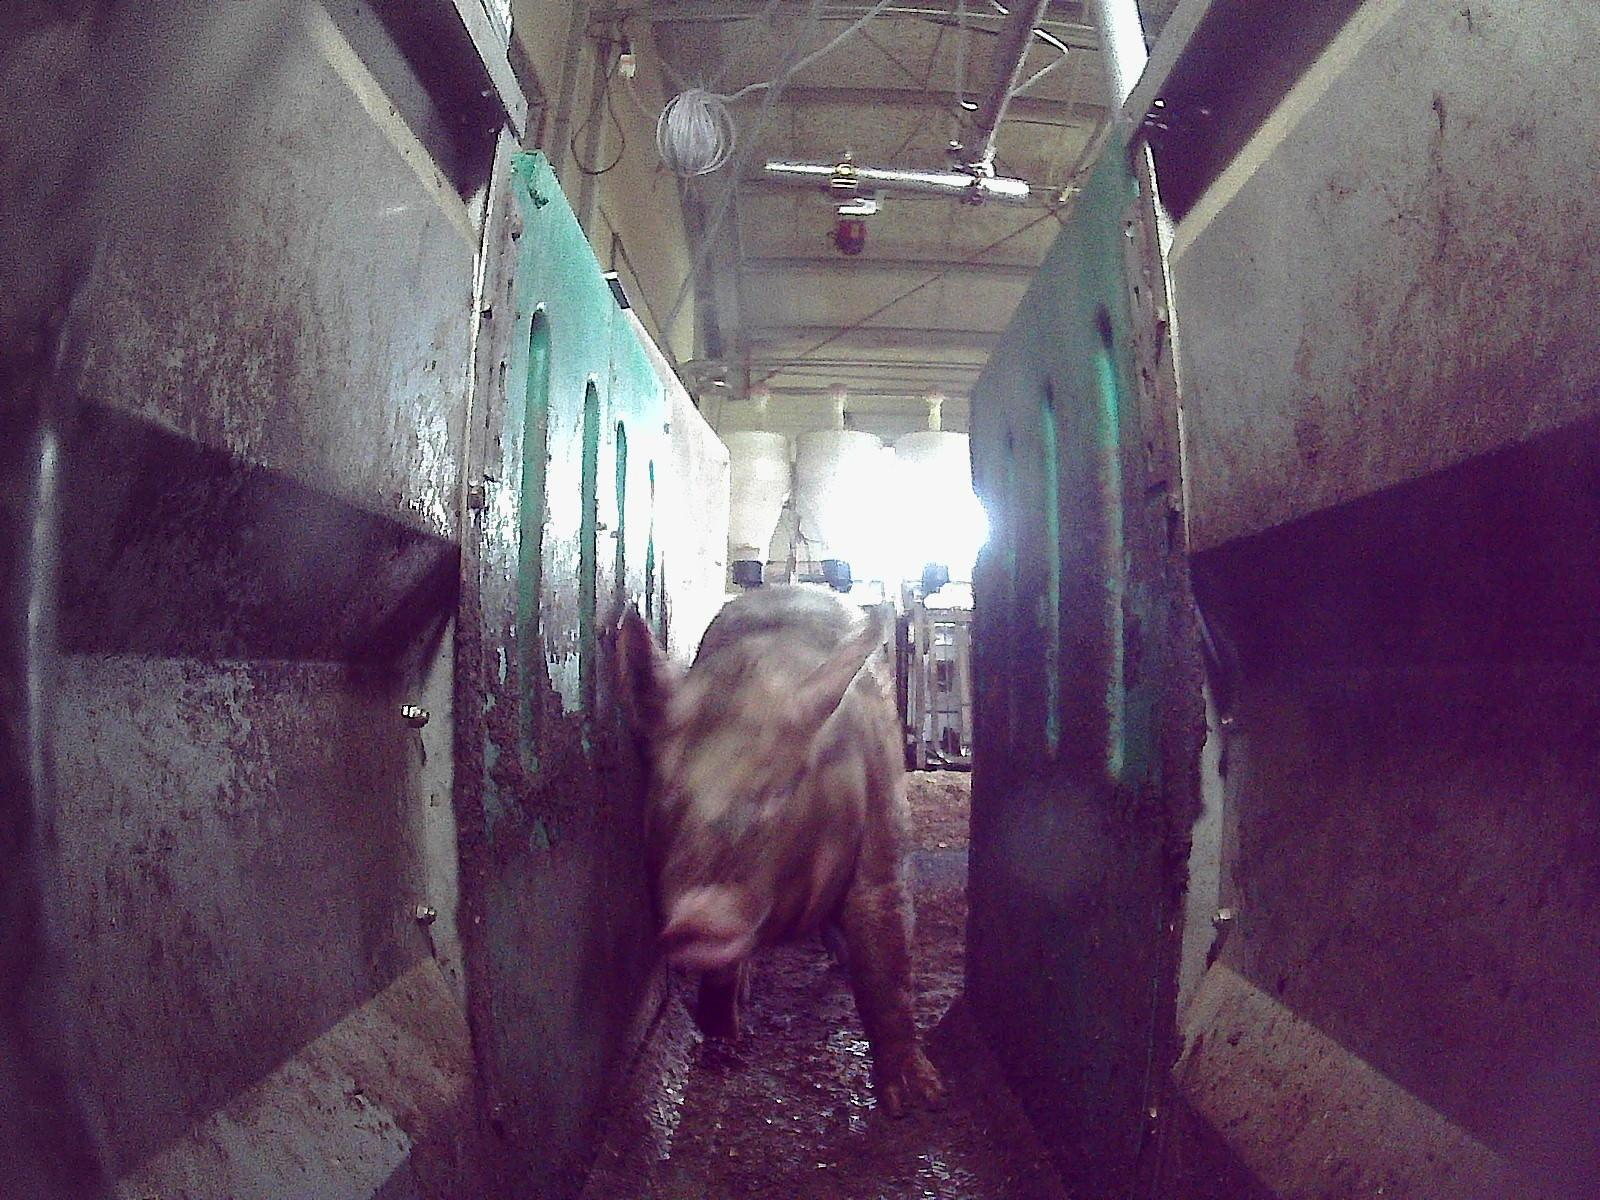Face: (641, 654, 848, 972)
